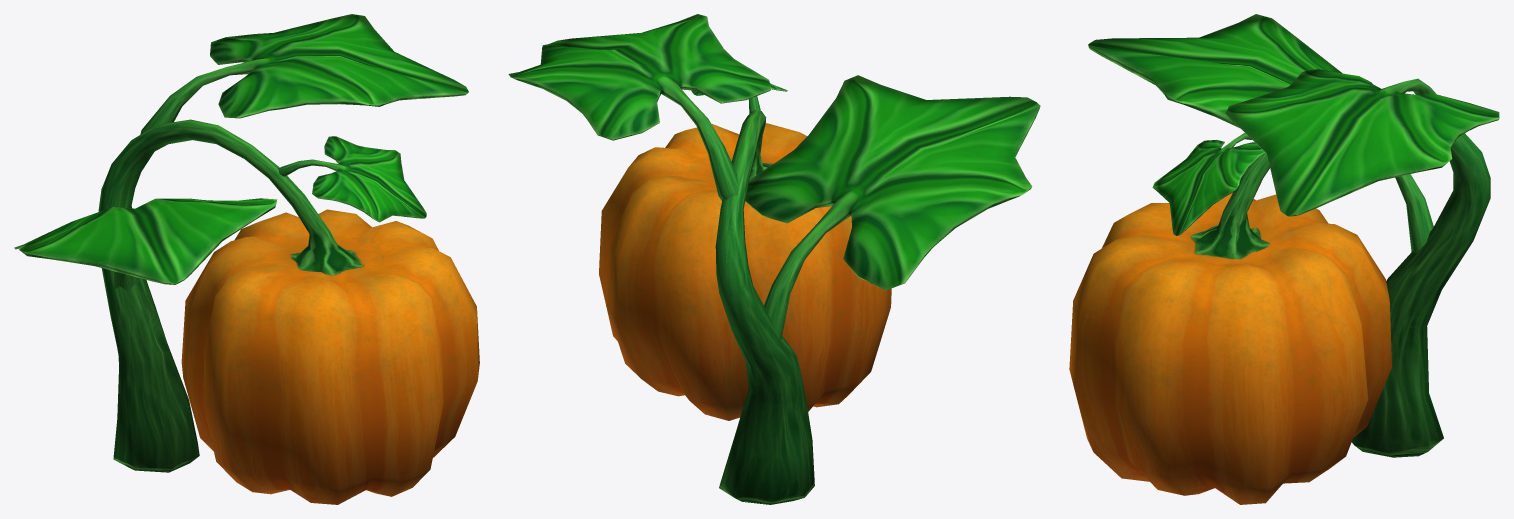
Rendered from Pumpkin_2.fbx.
The picture shows the model from 3 angles, left to right: view 1: azimuth 30°, elevation 25°; view 2: azimuth 150°, elevation 25°; view 3: azimuth 270°, elevation 25°; orthographic projection. The views are drawn at different scales.
Visible parts, largest first — view 1: Pumpkin_2; view 2: Pumpkin_2; view 3: Pumpkin_2.
Part boxes in pixels (x1,y1,x2,y2): Pumpkin_2: (14,14,479,504); Pumpkin_2: (508,14,1040,504); Pumpkin_2: (1069,14,1499,504).
Size of the model in its own units: 58.41 by 46.61 by 43.6.
Materials: 1 (1 with a texture image).
